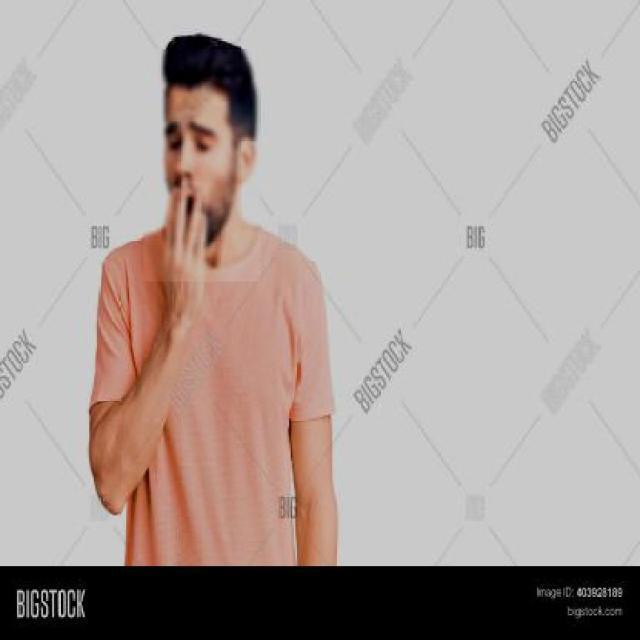sleepy: (156, 118, 221, 230)
